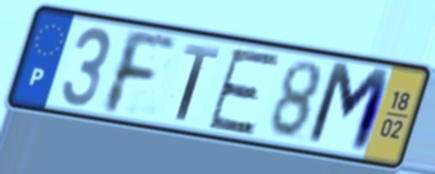3: (60, 24, 112, 108)
8: (267, 60, 325, 141)
E: (204, 46, 285, 137)
F: (101, 25, 179, 118)
M: (302, 58, 396, 159)
T: (174, 41, 222, 124)
